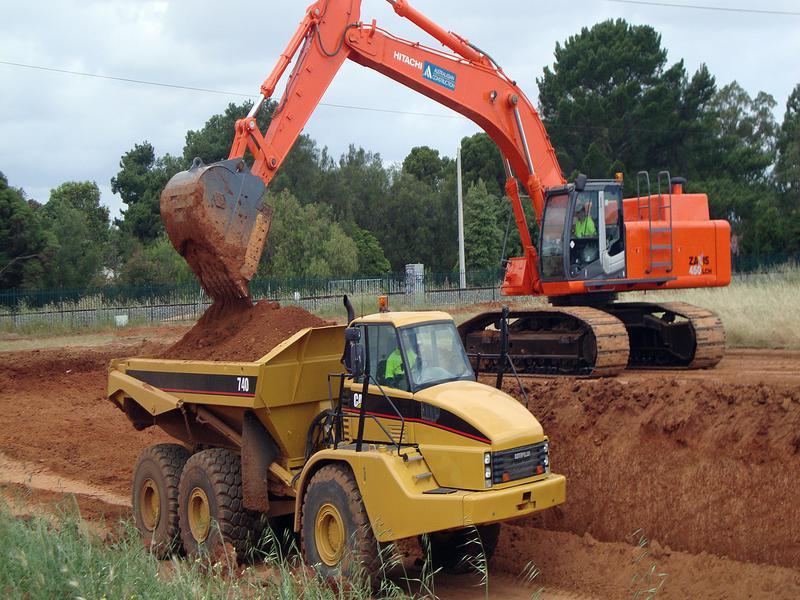shovel: (148, 1, 738, 377)
